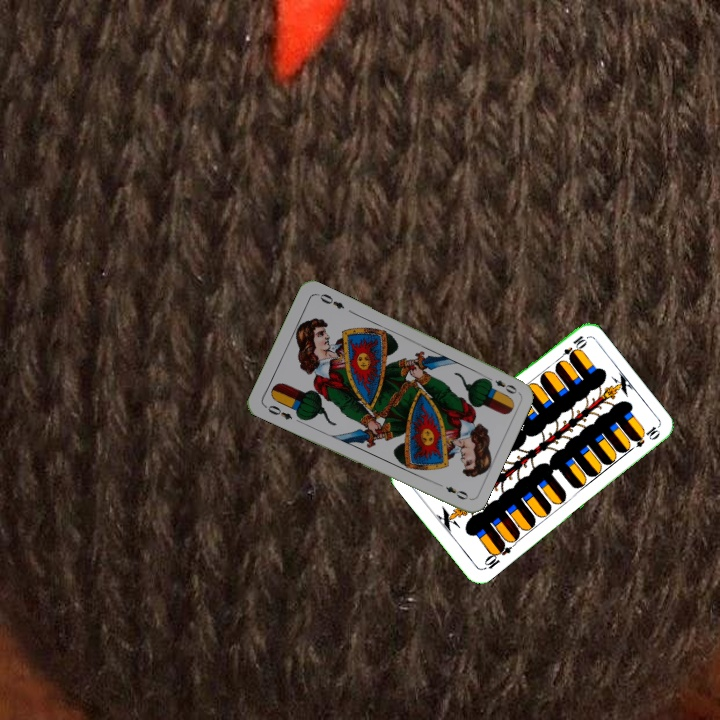E10: (554, 331, 589, 364), (479, 539, 514, 572)
EO: (482, 372, 520, 397), (260, 401, 295, 422)
